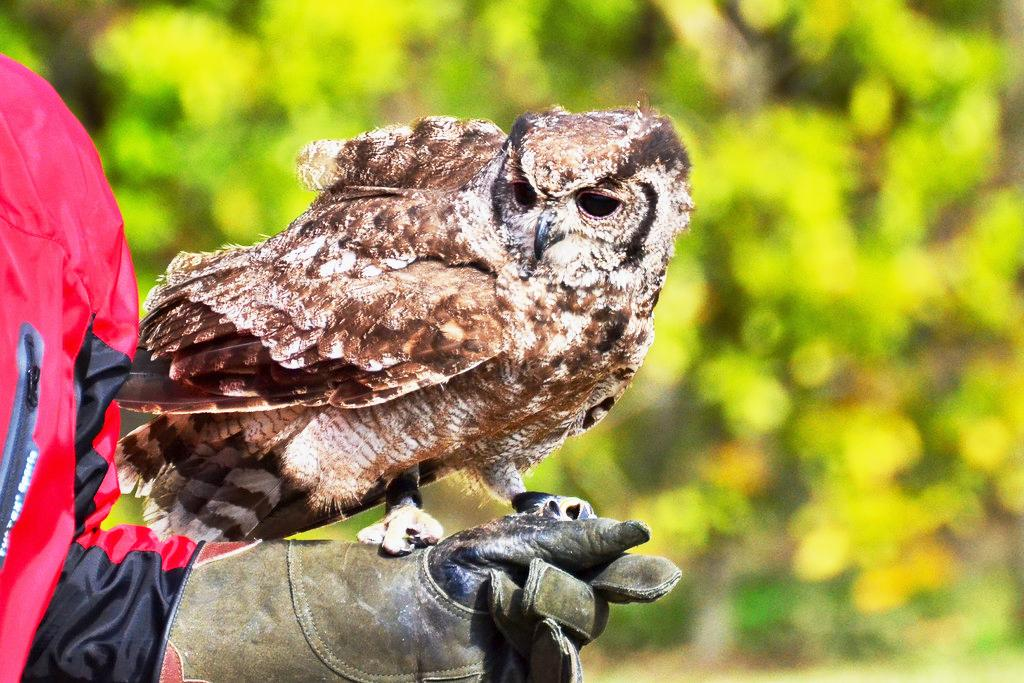Owl: (110, 94, 697, 556)
